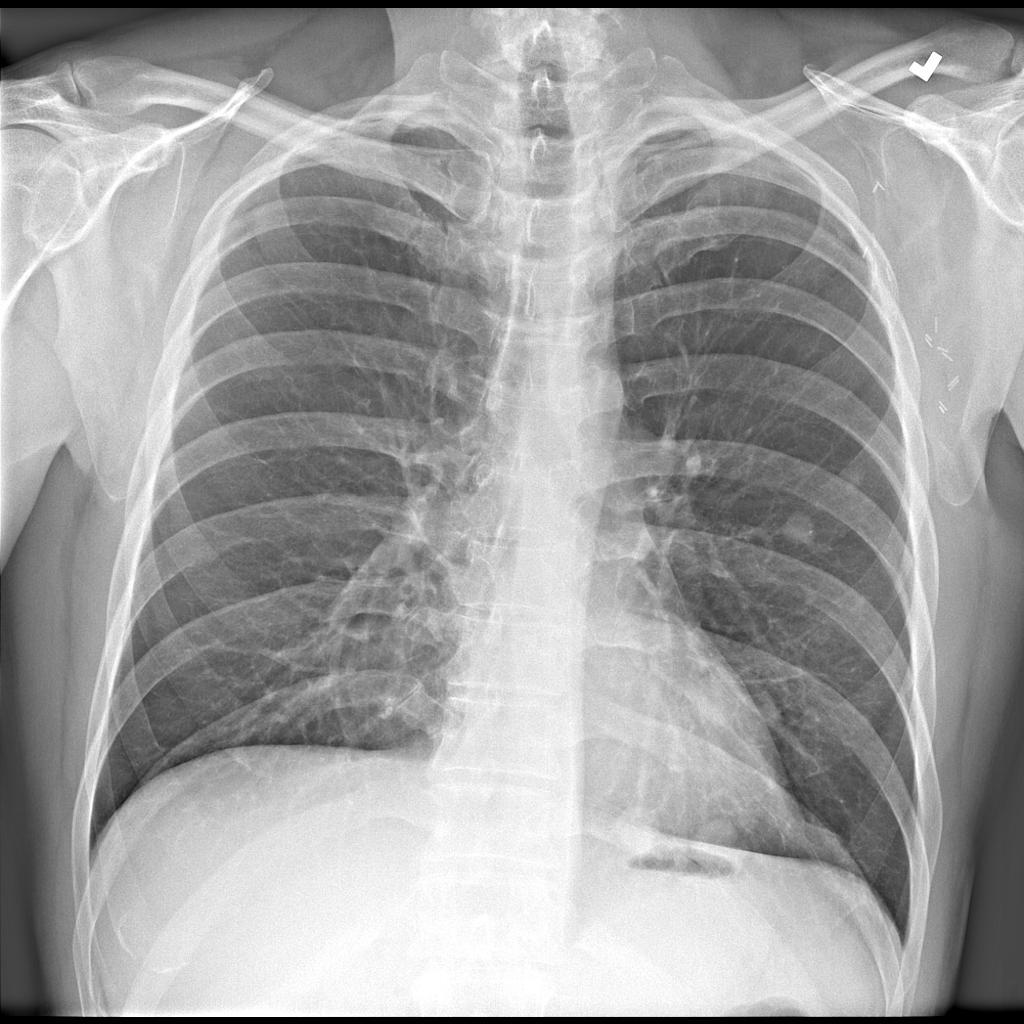Nodule: (601, 791, 670, 869), (689, 811, 746, 876), (784, 506, 817, 547)
